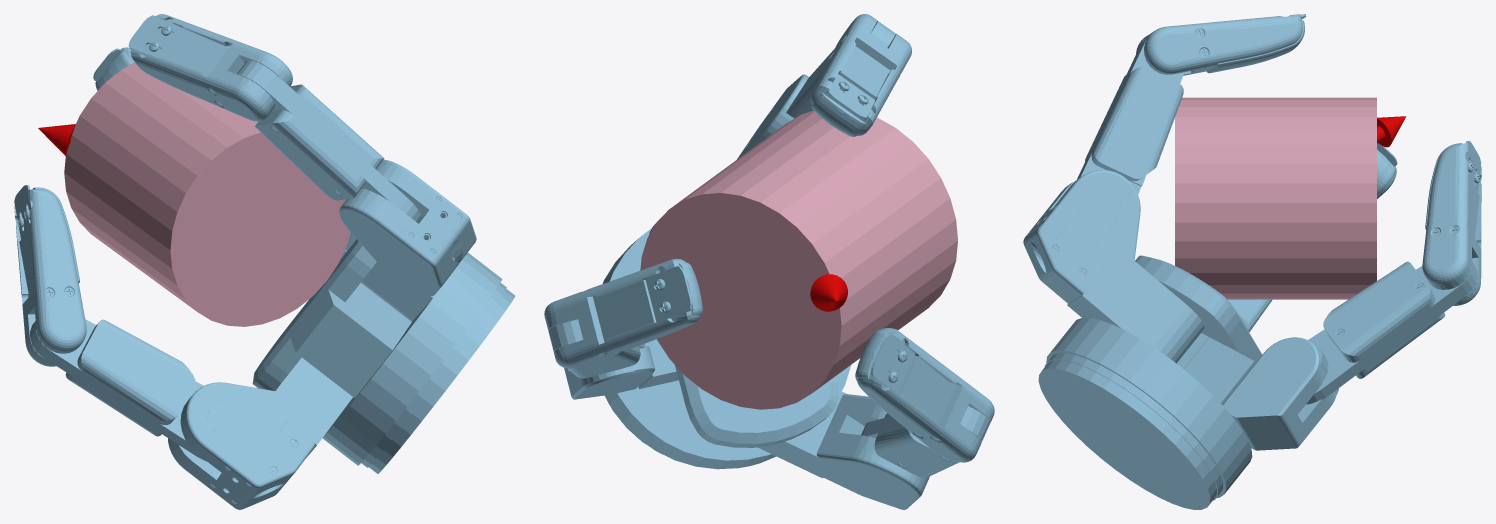
3 views of the same model, side by side, from view 1: azimuth 30°, elevation 25°; view 2: azimuth 150°, elevation 25°; view 3: azimuth 270°, elevation 25° (orthographic). The views are drawn at different scales.
Parts seen in each view (by area): view 1: world, cylinder_medium.stl; view 2: cylinder_medium.stl, world; view 3: world, cylinder_medium.stl.
Part boxes in pixels (<box>): world: <box>14,14,515,509</box>; cylinder_medium.stl: <box>64,62,350,326</box>; cylinder_medium.stl: <box>640,110,957,409</box>; world: <box>544,14,994,509</box>; world: <box>1023,14,1481,509</box>; cylinder_medium.stl: <box>1175,97,1376,299</box>.
Bounding box in the file's own units: 0.1785 × 0.1851 × 0.1813.
